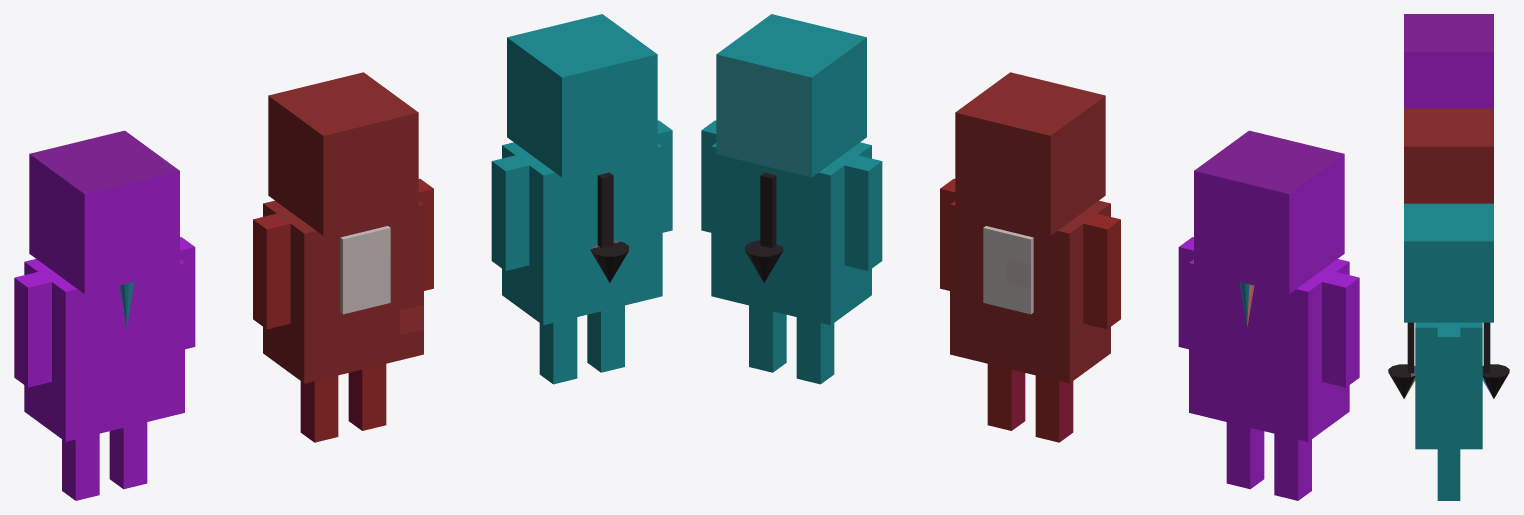
Rendered from Monster (2).fbx.
The picture shows the model from 3 angles, left to right: view 1: azimuth 30°, elevation 25°; view 2: azimuth 150°, elevation 25°; view 3: azimuth 270°, elevation 25°; orthographic projection. The views are drawn at different scales.
Visible parts, largest first — view 1: body_2, head_2, head, head_1, body_1, body, arm_R_1, arm_R_2, arm_R, A1, Leg_R_1, Leg_R (+9 smaller); view 2: body_2, head_2, head, head_1, body_1, body, arm_R_1, arm_R_2, arm_R, A2, Leg_R_1, Leg_R (+9 smaller); view 3: head_1, head, head_2, body_1, arm_L_1, Leg_L_1, cone, cone2, gpa monster, stem2.
Boxes of the visible parts, x1,y1,x2,y2 form: body_2: (24,259,184,441); head_2: (29,130,179,293); head: (268,72,418,235); head_1: (507,14,657,177); body_1: (502,142,662,325); body: (263,200,423,383); arm_R_1: (491,155,529,270); arm_R_2: (14,272,51,387); arm_R: (253,213,290,329); A1: (340,226,390,314); Leg_R_1: (539,317,577,384); Leg_R: (300,375,338,442); body_2: (1189,259,1349,441); head_2: (1194,130,1344,293); head: (955,72,1105,235); head_1: (716,14,866,177); body_1: (711,142,871,325); body: (950,200,1110,383); arm_R_1: (844,155,882,270); arm_R_2: (1322,272,1359,387); arm_R: (1083,213,1120,329); A2: (983,226,1033,314); Leg_R_1: (796,317,834,384); Leg_R: (1035,375,1073,442); head_1: (1404,203,1493,322); head: (1404,108,1493,203); head_2: (1404,14,1493,108); body_1: (1415,322,1482,449); arm_L_1: (1437,327,1460,418); Leg_L_1: (1437,449,1460,500); cone: (1388,364,1415,398); cone2: (1482,364,1509,398); gpa monster: (1407,322,1414,373); stem2: (1483,322,1490,373).
Bounding box in the file's own units: 2700 × 1300 × 540.
Materials: 16 (16 with a texture image).
